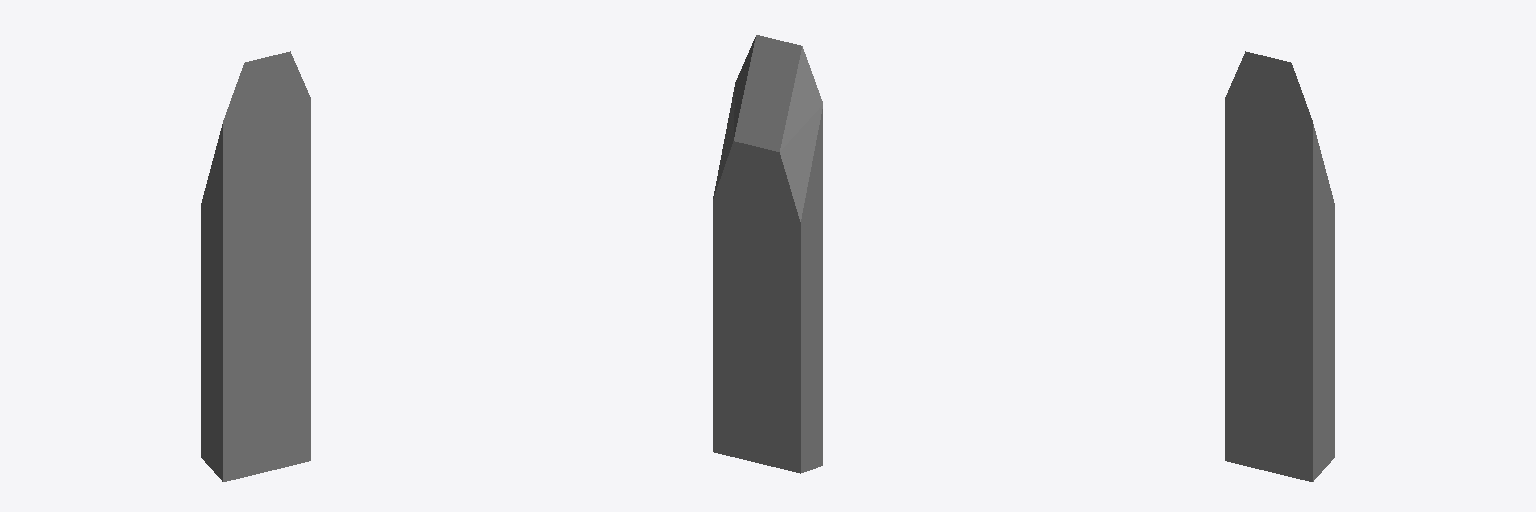
File: shiphull.obj
3 views of the same model, side by side, from view 1: azimuth 30°, elevation 25°; view 2: azimuth 150°, elevation 25°; view 3: azimuth 330°, elevation 25° (orthographic).
Parts seen in each view (by area): view 1: Box001; view 2: Box001; view 3: Box001.
Boxes of the visible parts, box(x1,y1,x2,y2) form: Box001: box(201, 51, 310, 481); Box001: box(713, 35, 822, 473); Box001: box(1225, 51, 1334, 481).
Size of the model in its own units: 40.37 by 182 by 18.1.